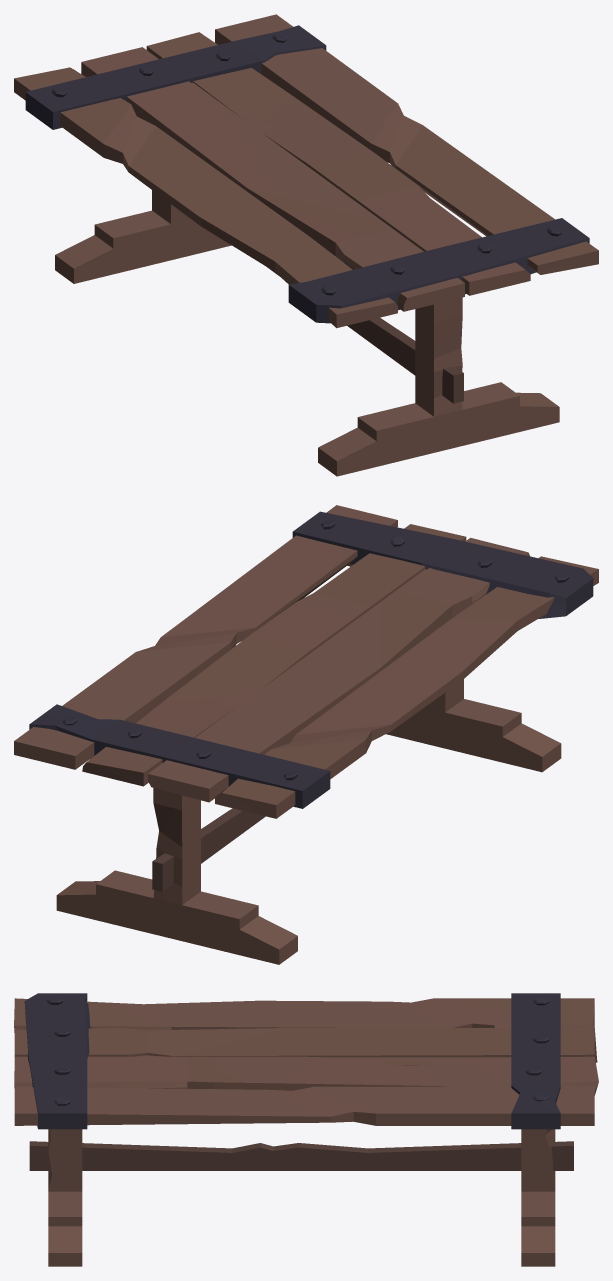
File: buiten-tafel-2.glb
3 views of the same model, one above another, from view 1: azimuth 30°, elevation 25°; view 2: azimuth 150°, elevation 25°; view 3: azimuth 270°, elevation 25° (orthographic). The views are drawn at different scales.
Parts seen in each view (by area): view 1: buiten-tafel-2; view 2: buiten-tafel-2; view 3: buiten-tafel-2.
Boxes of the visible parts, x1,y1,x2,y2 form: buiten-tafel-2: [14, 14, 598, 476]; buiten-tafel-2: [14, 505, 598, 964]; buiten-tafel-2: [14, 993, 598, 1266].
Bounding box in the file's own units: 0.9519 × 0.623 × 1.96.
